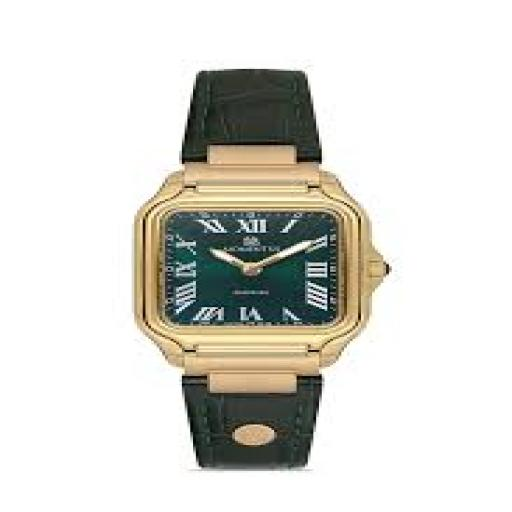KolSaati: (102, 37, 420, 479)
